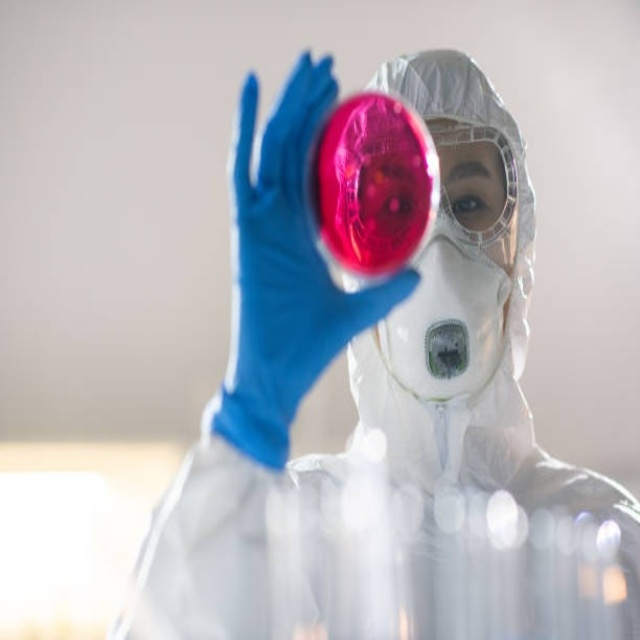Gafas: (424, 121, 520, 256)
Guantes: (212, 47, 423, 470)
Mascara: (370, 229, 512, 409)
